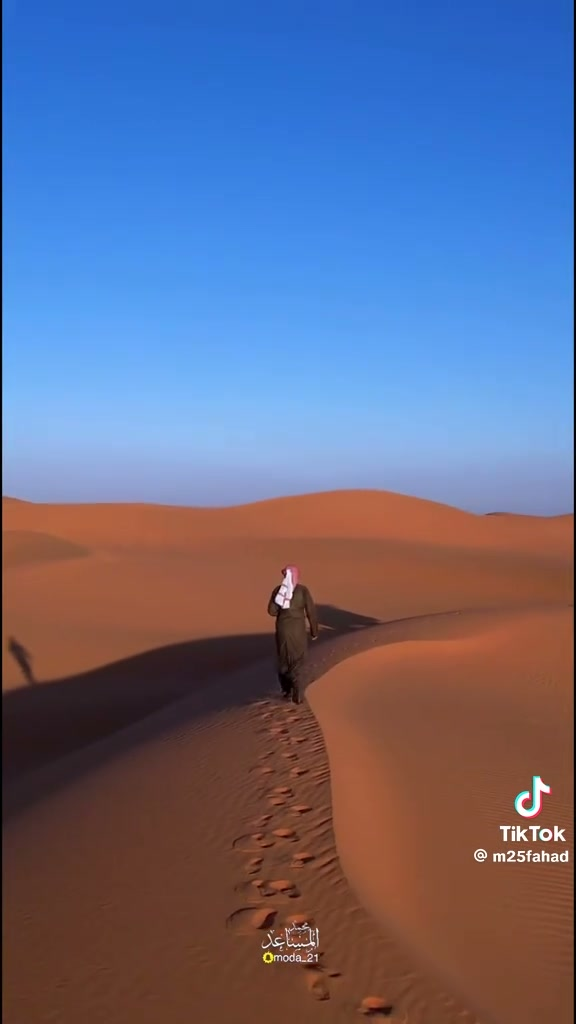human_foot_print: (228, 715, 314, 935), (268, 566, 318, 703)
